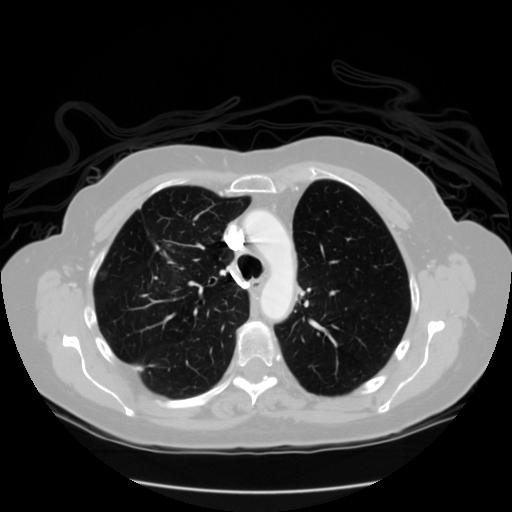nodule: (96, 268, 111, 283)
